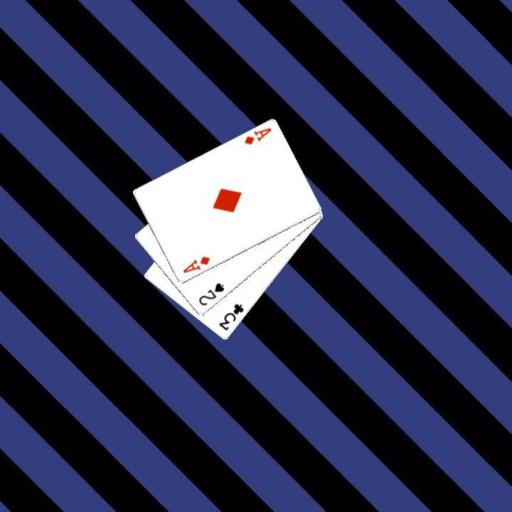2S: (196, 280, 226, 307)
3C: (216, 301, 246, 333)
AD: (179, 253, 211, 275), (241, 125, 272, 147)
